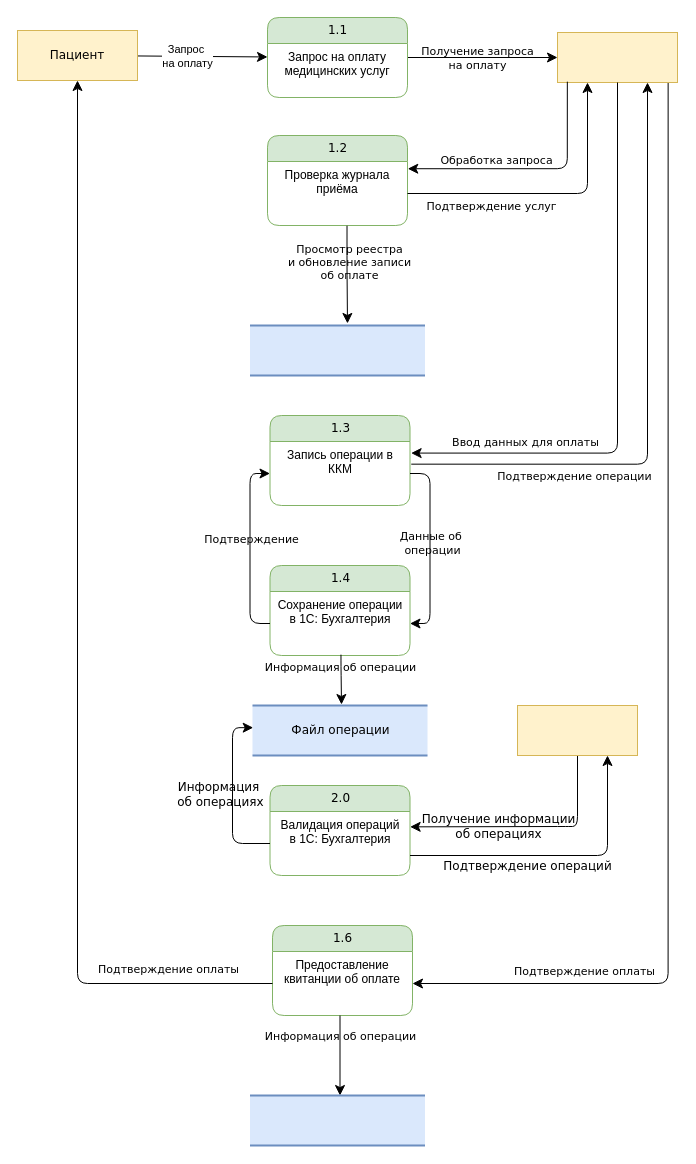
Some shapes in this 696 by 1164 pixel diagram are drawn without their labels. The shapes that lost their labels are listed below. From the top down, each one's centre as x and y in pixels, then its label:
the point at 617,57: Кассир
the point at 337,350: Сетевой диск с Excel-журналом приёма
the point at 577,730: Бухгалтер
the point at 337,1120: Квитанция об оплате
